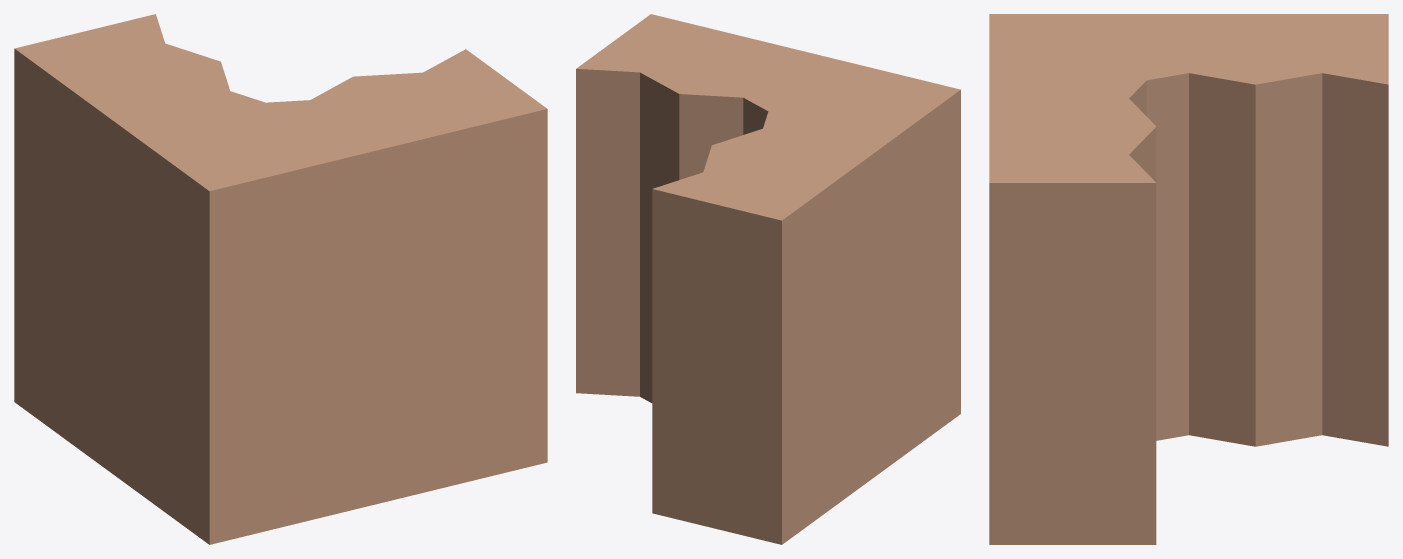
Rendered from cliff_cornerInnerLarge_rock.glb.
3 views of the same model, side by side, from view 1: azimuth 30°, elevation 25°; view 2: azimuth 150°, elevation 25°; view 3: azimuth 270°, elevation 25° (orthographic). The views are drawn at different scales.
Visible parts, largest first — view 1: cliff_cornerInnerLarge_rock; view 2: cliff_cornerInnerLarge_rock; view 3: cliff_cornerInnerLarge_rock.
Boxes of the visible parts, box(x1,y1,x2,y2) form: cliff_cornerInnerLarge_rock: box(14, 14, 547, 544); cliff_cornerInnerLarge_rock: box(576, 14, 960, 544); cliff_cornerInnerLarge_rock: box(989, 14, 1388, 544).
Bounding box in the file's own units: 1 × 1 × 1.
